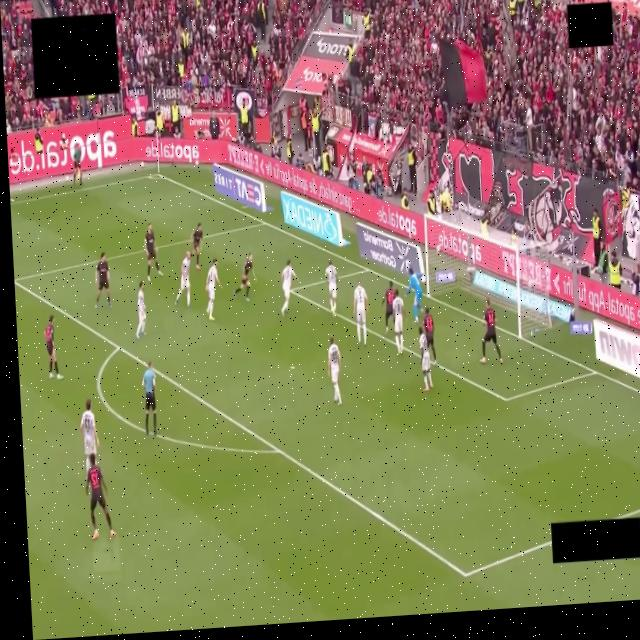player: (85, 453, 115, 540), (480, 299, 502, 364), (80, 399, 98, 471), (44, 315, 62, 379), (233, 253, 255, 301), (144, 223, 162, 281), (205, 259, 221, 321), (281, 260, 298, 316), (418, 326, 432, 391), (353, 281, 367, 345), (327, 337, 340, 405), (392, 290, 405, 356), (406, 269, 422, 322), (175, 252, 190, 308), (95, 252, 110, 307), (325, 261, 337, 316), (423, 308, 435, 363), (382, 280, 394, 335), (136, 281, 145, 339), (191, 223, 202, 270)
referee: (141, 361, 156, 436)
